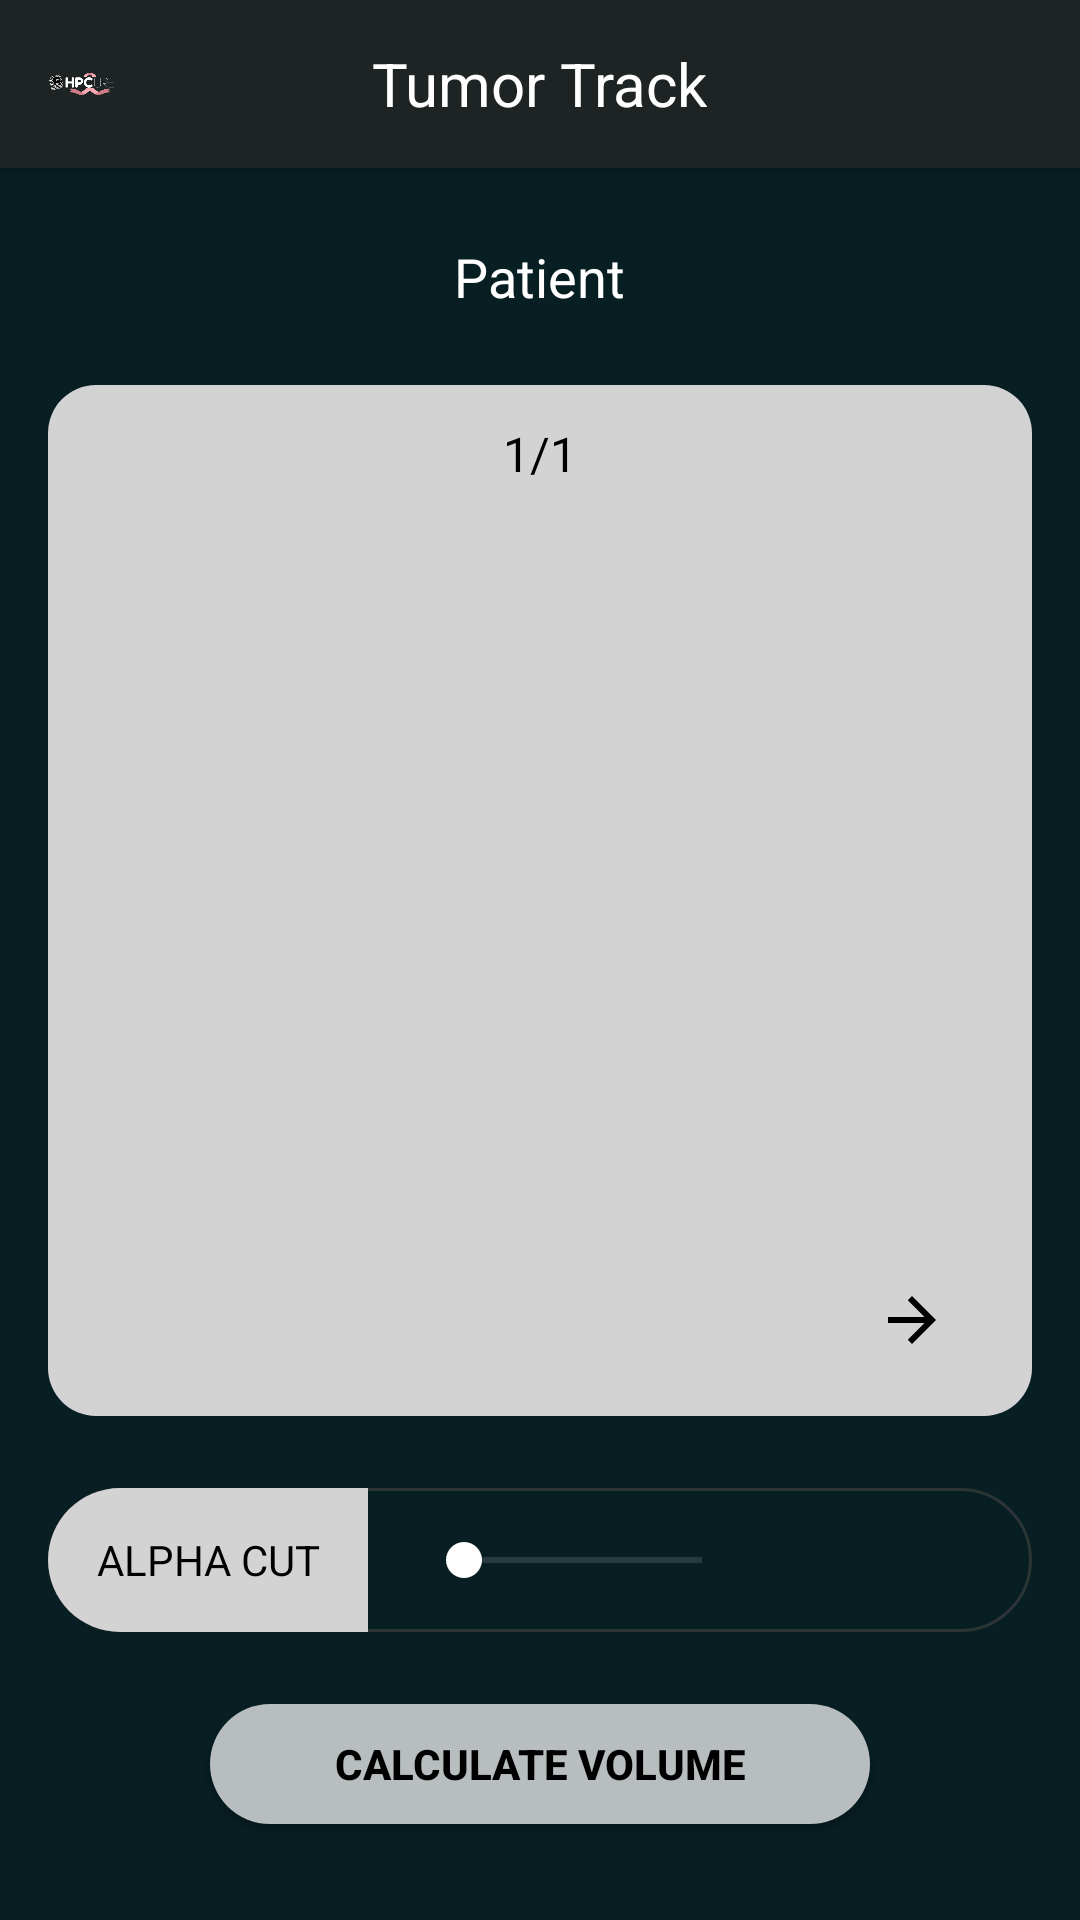

Locate icon controls on the screen. Image size 1080px×1920px, boxes as (x1, y1, x2, y2).
right arrow: (888, 1296, 936, 1344)
